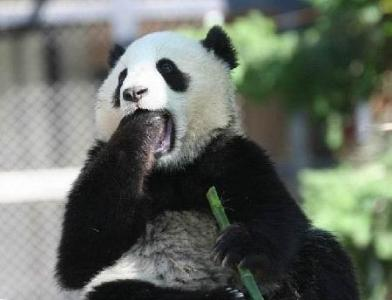panda: (53, 21, 365, 300)
